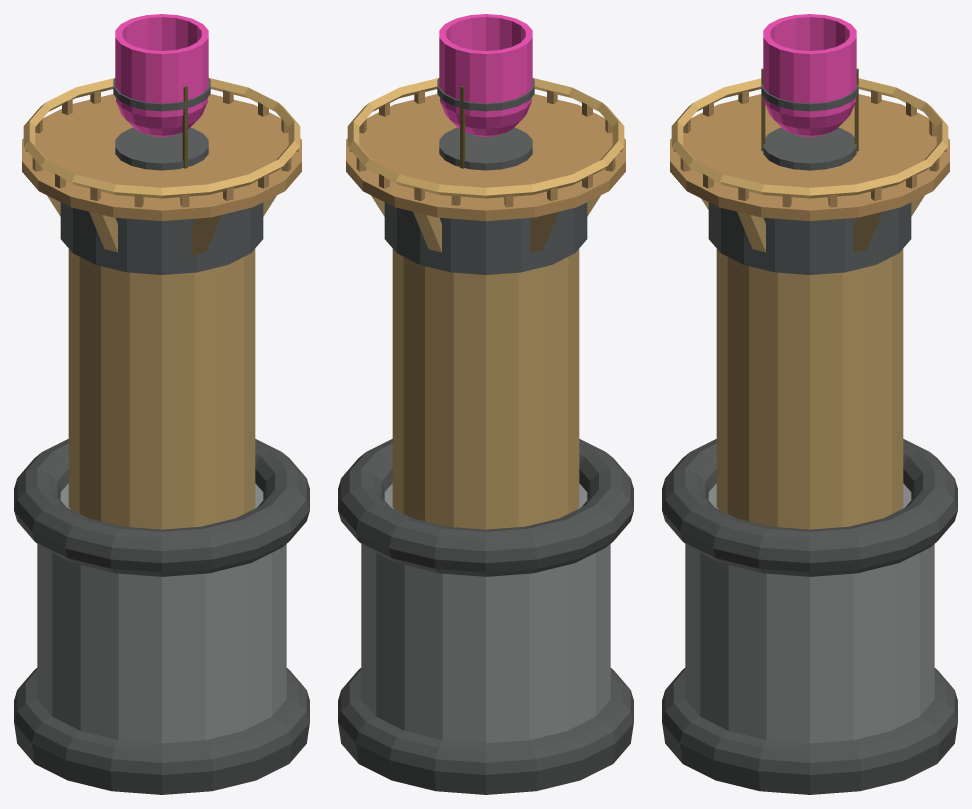
Rendered from Turret.gltf.
3 renders of one model, left to right at view 1: azimuth 30°, elevation 25°; view 2: azimuth 150°, elevation 25°; view 3: azimuth 270°, elevation 25°, orthographic.
Visible parts, largest first — view 1: Wall (×2), Platform, Lip, Base, Ring, tube (×2), RailingPost, cylinder, sphere, cuboid (×2); view 2: Wall (×2), Platform, Lip, Base, Ring, tube (×2), RailingPost, cylinder, sphere, cuboid (×2); view 3: Wall (×2), Platform, Lip, Base, Ring, tube (×2), RailingPost, cylinder, sphere, cuboid (×2).
Part boxes in pixels (x1,y1,x2,y2): Wall (×2): [37, 249, 286, 743]; Platform: [22, 94, 301, 221]; Lip: [14, 439, 309, 576]; Base: [14, 668, 309, 794]; Ring: [60, 202, 263, 274]; tube (×2): [113, 14, 210, 111]; RailingPost: [23, 78, 300, 198]; cylinder: [115, 127, 208, 170]; sphere: [116, 97, 207, 136]; cuboid (×2): [89, 211, 221, 257]; Wall (×2): [361, 249, 610, 743]; Platform: [346, 94, 625, 221]; Lip: [338, 439, 633, 576]; Base: [338, 668, 633, 794]; Ring: [384, 202, 587, 274]; tube (×2): [437, 14, 534, 111]; RailingPost: [347, 78, 624, 198]; cylinder: [439, 127, 532, 170]; sphere: [440, 97, 531, 136]; cuboid (×2): [413, 211, 558, 252]; Wall (×2): [685, 249, 934, 743]; Platform: [670, 94, 949, 221]; Lip: [662, 439, 957, 576]; Base: [662, 668, 957, 794]; Ring: [708, 202, 911, 274]; tube (×2): [761, 14, 858, 111]; RailingPost: [671, 78, 948, 198]; cylinder: [763, 127, 856, 170]; sphere: [764, 97, 855, 136]; cuboid (×2): [737, 211, 882, 252].
Bounding box in the file's own units: 1.21 × 3.1 × 1.19.
13 materials, 13 textured.
